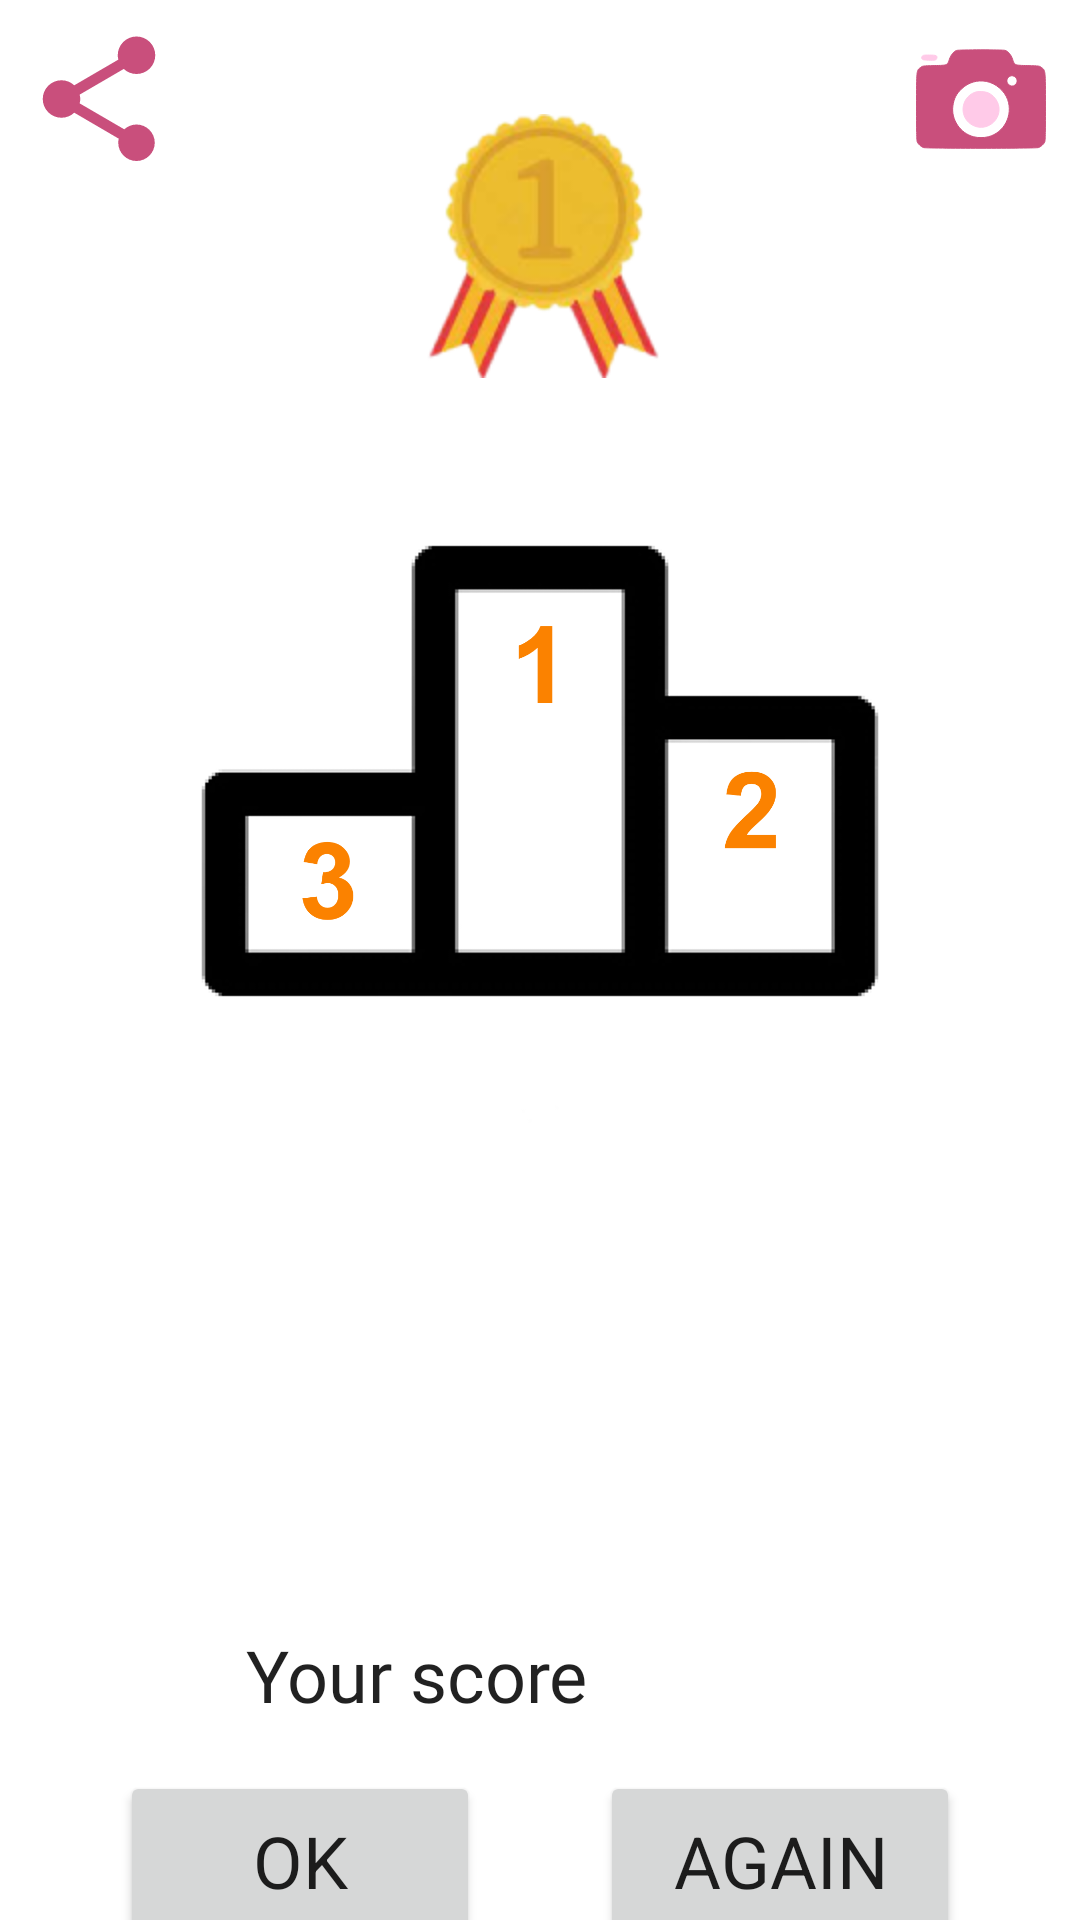

Named icons in this screenshot (1080 × 1920) and their bounding boxes, (x1, y1, x2, y2):
medal: (429, 114, 658, 378)
share: (42, 36, 156, 161)
